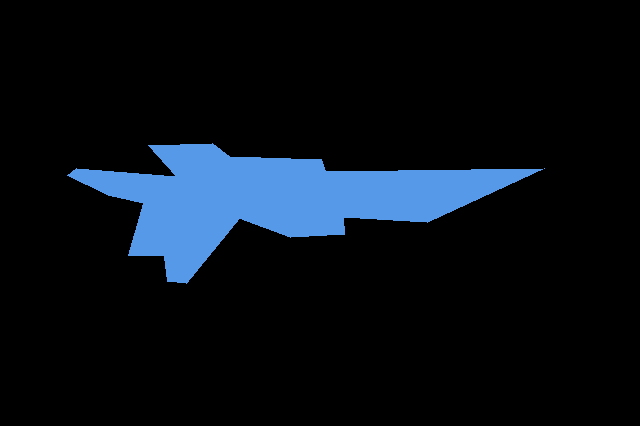Airplane: (67, 143, 544, 284)
